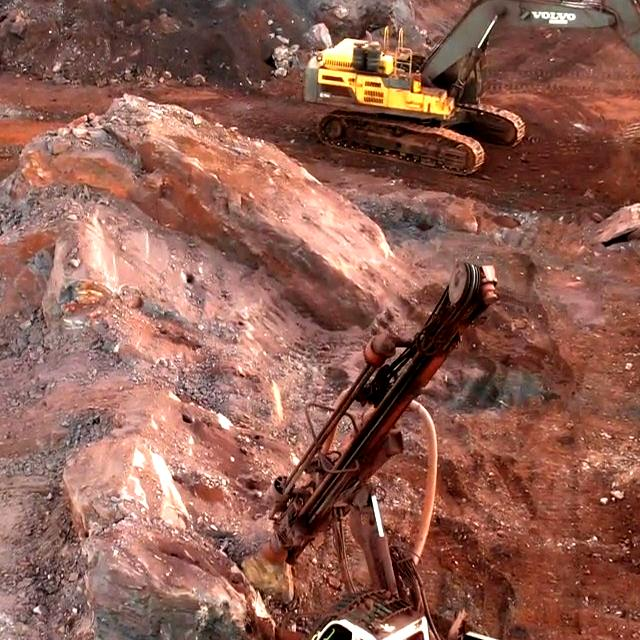Blast rig: (311, 597, 636, 640)
Excavator: (310, 43, 497, 152)
